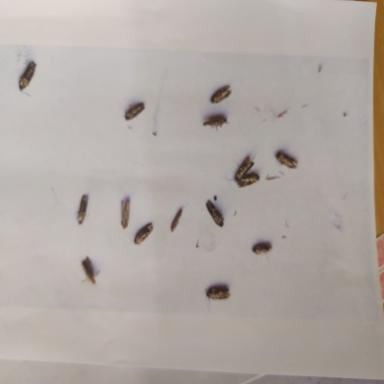pbw: (16, 59, 38, 99), (204, 284, 232, 310), (79, 256, 101, 288), (204, 198, 226, 229), (73, 192, 91, 228), (208, 82, 234, 106), (273, 148, 299, 171), (133, 221, 155, 247), (123, 100, 147, 123), (249, 240, 274, 262), (201, 114, 231, 132), (234, 170, 262, 189), (168, 206, 185, 235), (119, 194, 132, 231)
